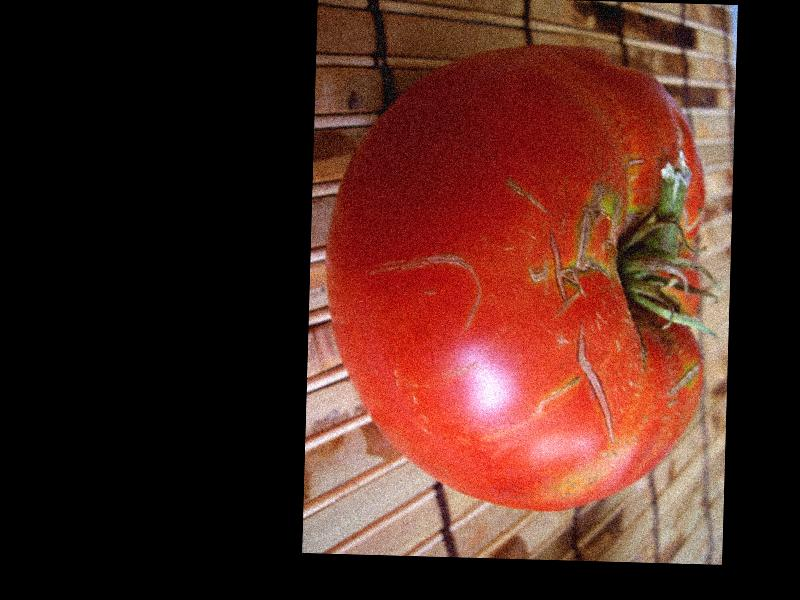Tomato: (325, 39, 713, 514)
